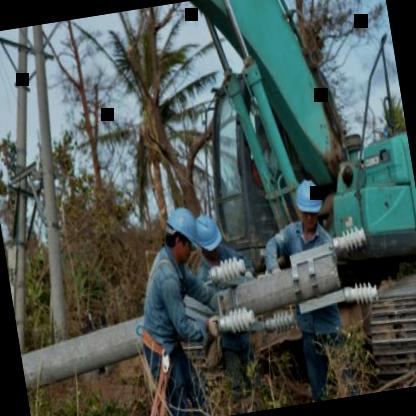helmet: (162, 204, 210, 268), (292, 174, 327, 230), (189, 205, 224, 255)
